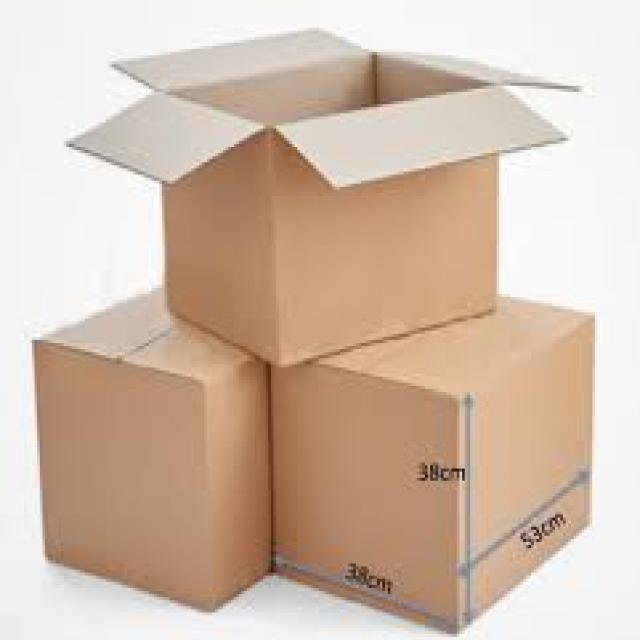cardboard: (61, 22, 576, 362), (266, 294, 592, 628), (32, 282, 268, 609)
